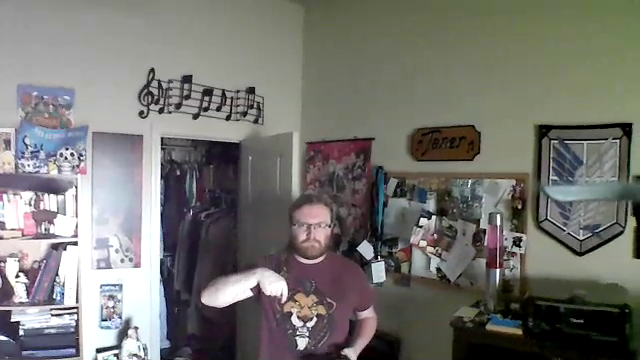down: (252, 259, 289, 307)
